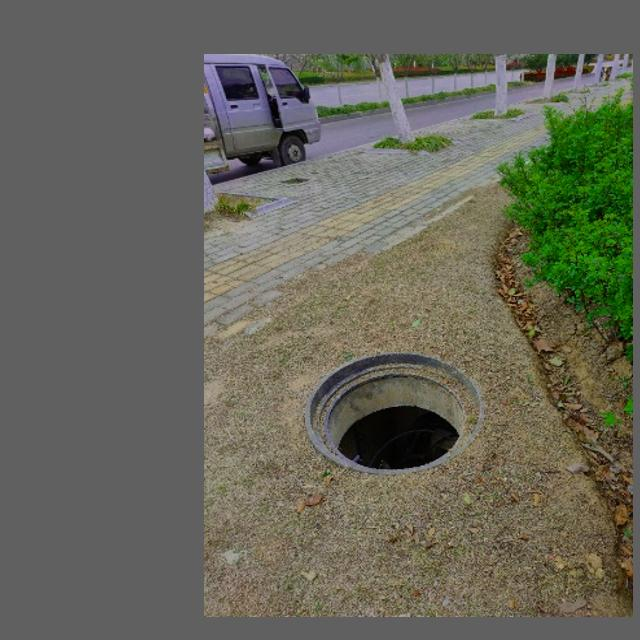lose: (305, 350, 482, 474)
